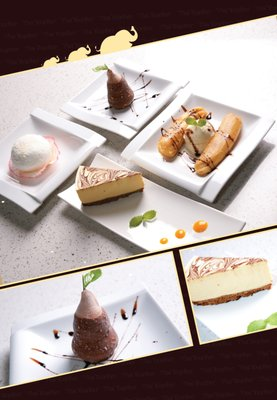soup: (186, 256, 271, 306), (193, 112, 243, 177)
